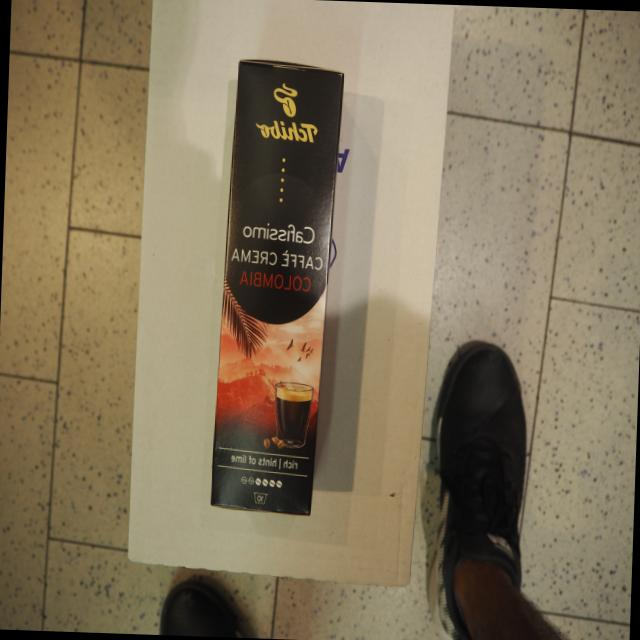Simo CC Colombia: (205, 54, 349, 521)
